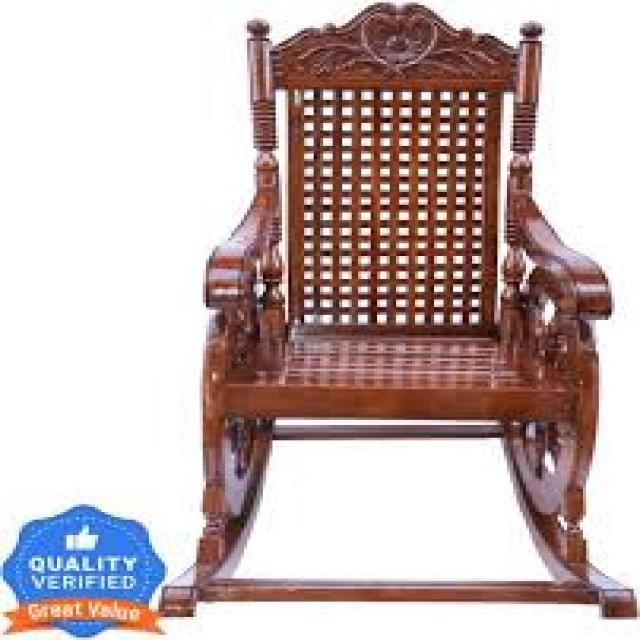chair: (155, 1, 638, 634)
